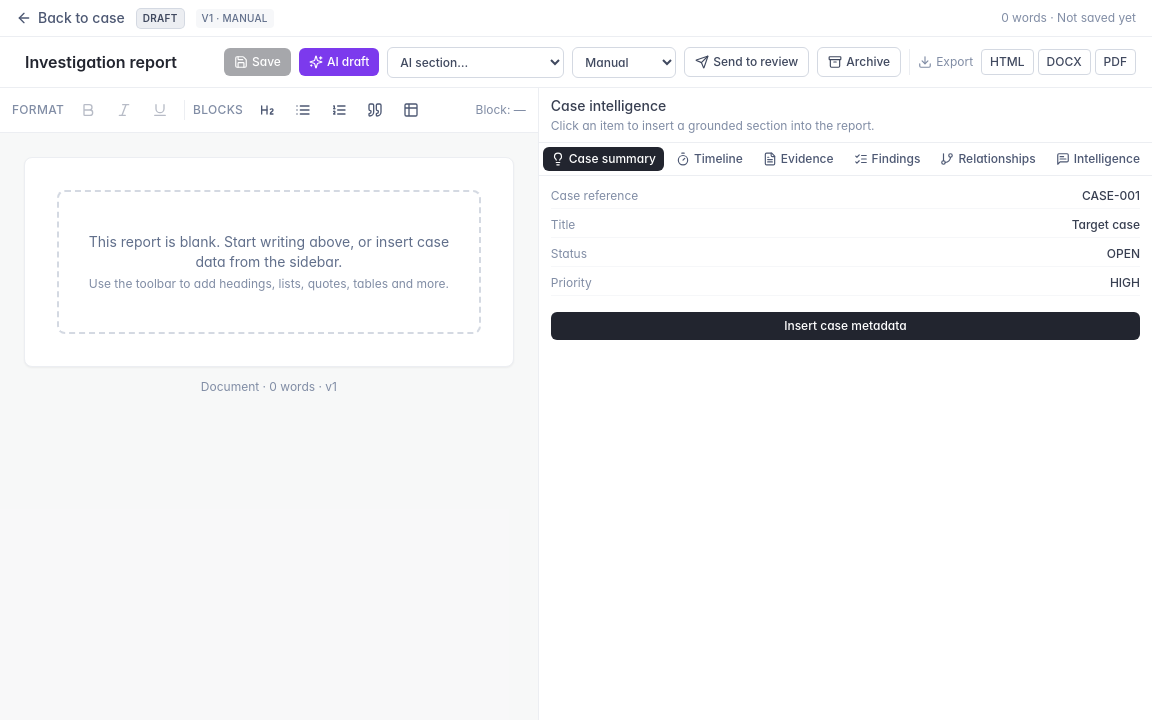
Scenario: ReportsEditor › adds blocks from the toolbar and types content into the page
Click the button titled "Heading": click(267, 110) 251,94 -> 283,126
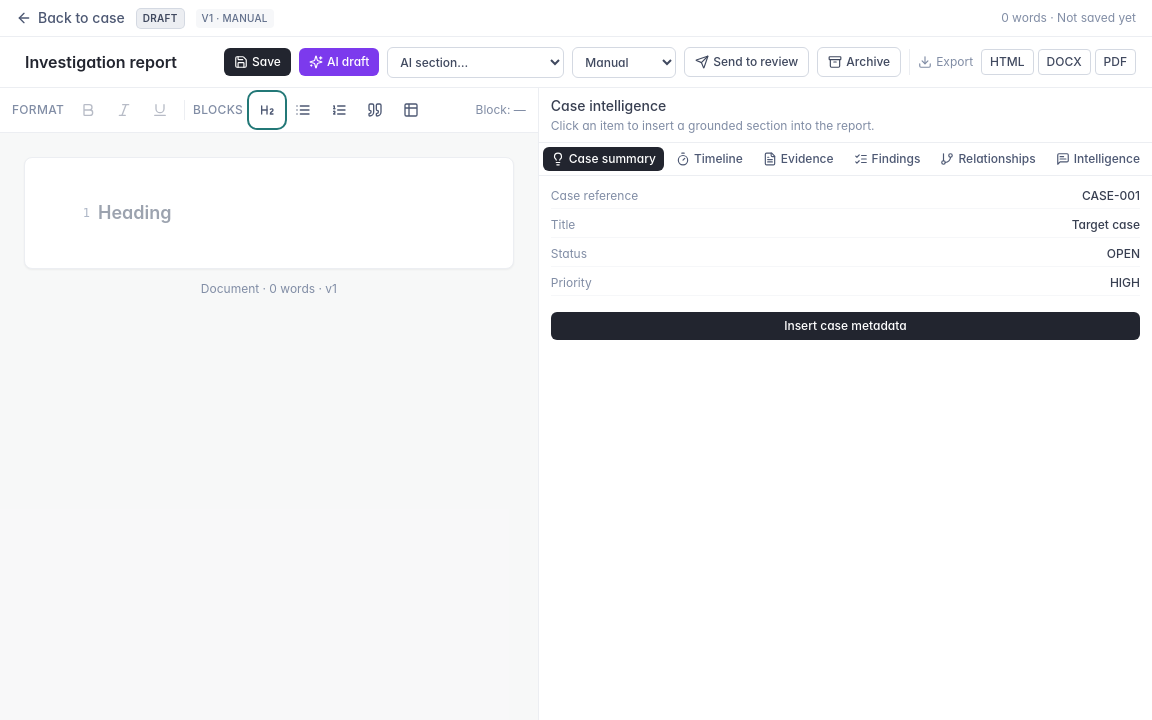
In the field with placeholder "Heading": (285, 213) 98,199 -> 472,227, type "Executive summary"
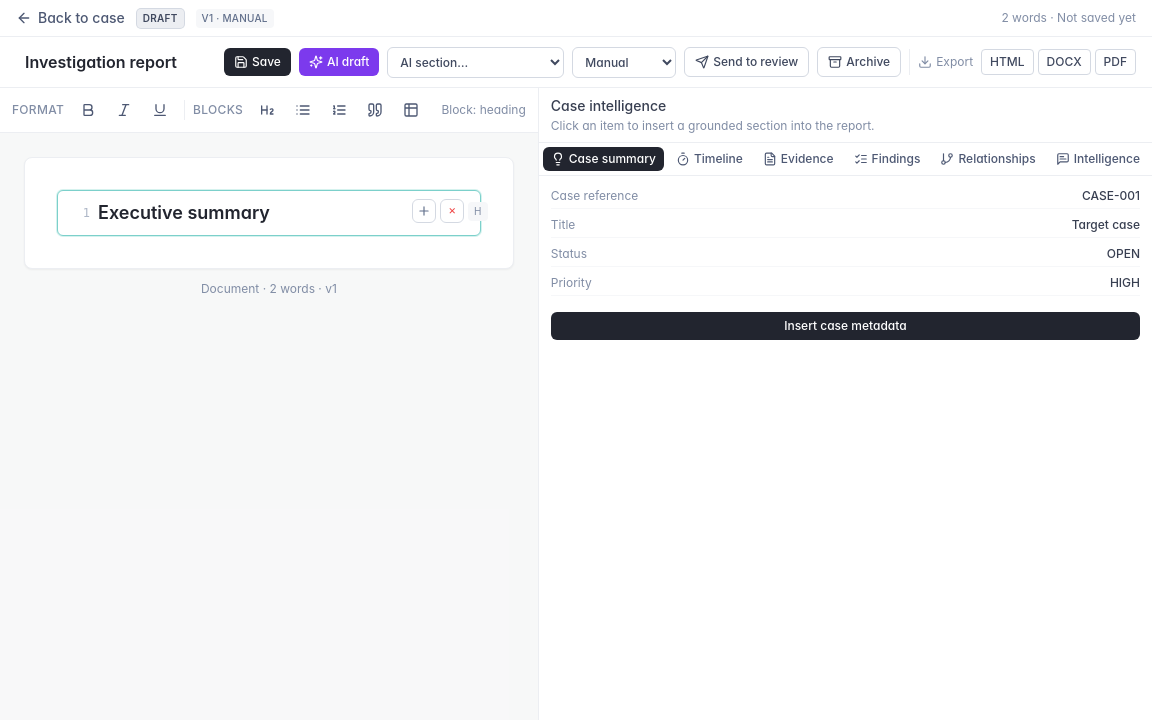
Now the text "Block: heading" is shown, box 441,102 -> 526,118
